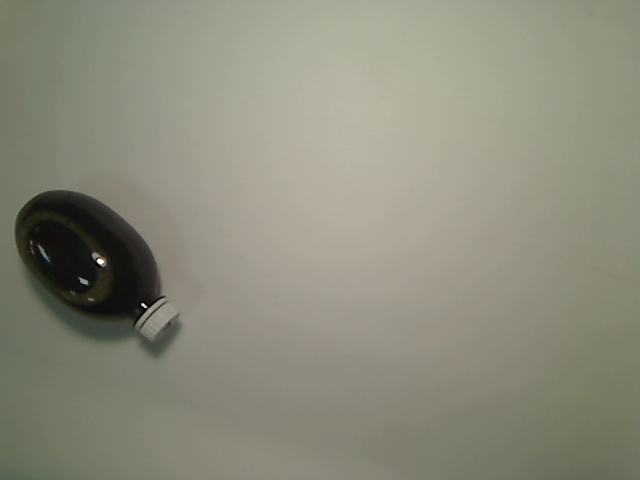plast_bottle: (14, 188, 180, 346)
